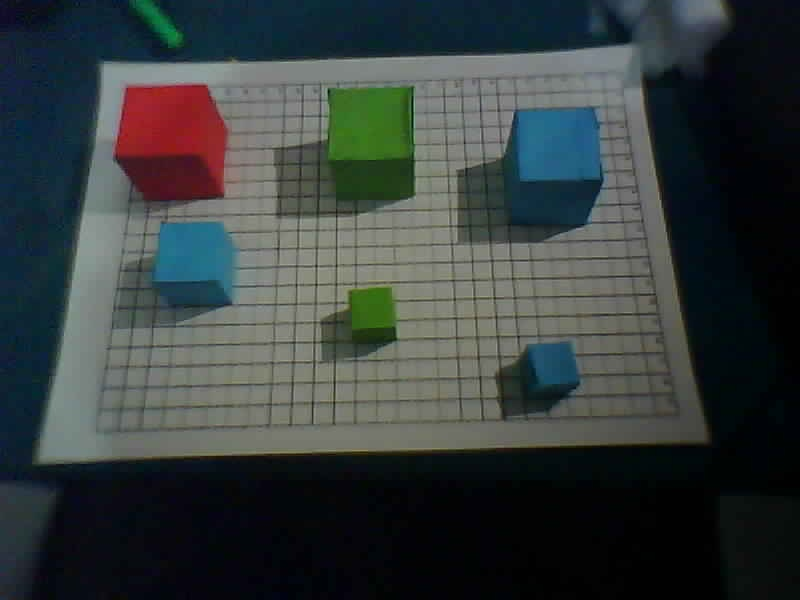blue(2x2x2): (502, 326, 601, 431)
blue(3x3x3): (141, 217, 246, 314)
blue(4x4x4): (484, 99, 624, 242)
green(2x2x2): (331, 274, 432, 361)
green(4x4x4): (299, 74, 440, 221)
red(4x4x4): (114, 74, 249, 213)
